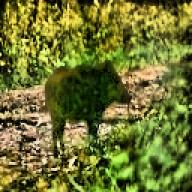boar: (42, 58, 132, 158)
